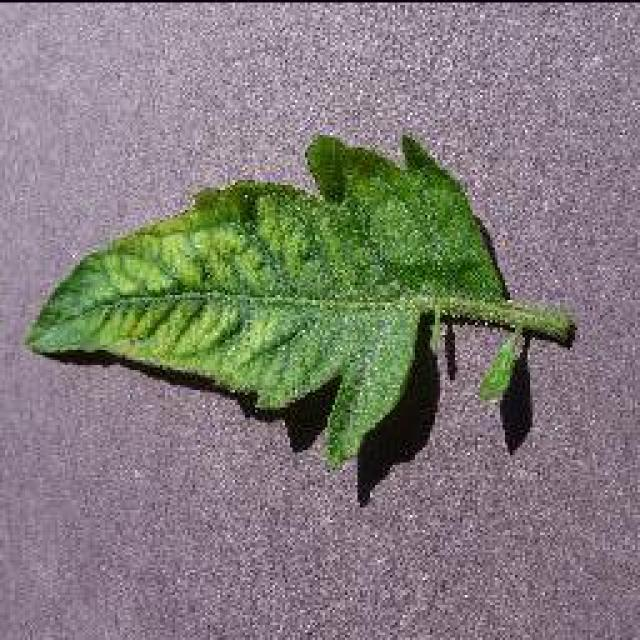Tomato___Tomato_mosaic_virus: (28, 135, 572, 462)
